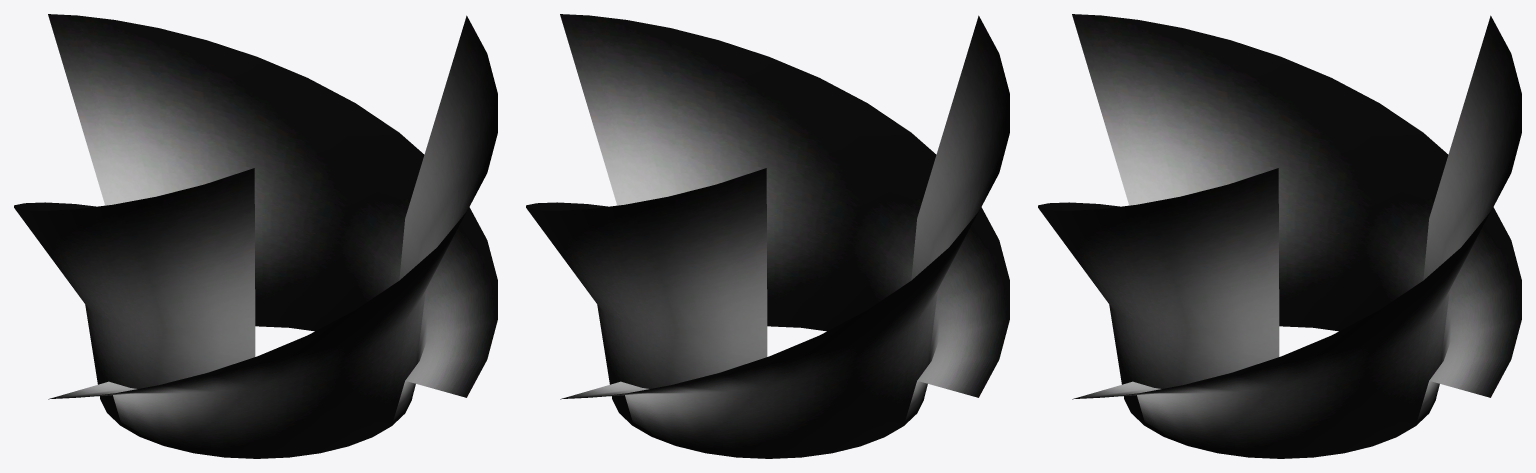
The model's file is vfx_kurp_0246.dae.
The picture shows the model from 3 angles, left to right: view 1: azimuth 30°, elevation 25°; view 2: azimuth 150°, elevation 25°; view 3: azimuth 270°, elevation 25°; orthographic projection.
Visible parts, largest first — view 1: vfx_kurp_0246; view 2: vfx_kurp_0246; view 3: vfx_kurp_0246.
Boxes of the visible parts, x1,y1,x2,y2 form: vfx_kurp_0246: [14, 14, 497, 458]; vfx_kurp_0246: [526, 14, 1009, 458]; vfx_kurp_0246: [1038, 14, 1521, 458].
Size of the model in its own units: 10.87 by 10.8 by 8.06.
1 material, 1 textured.
